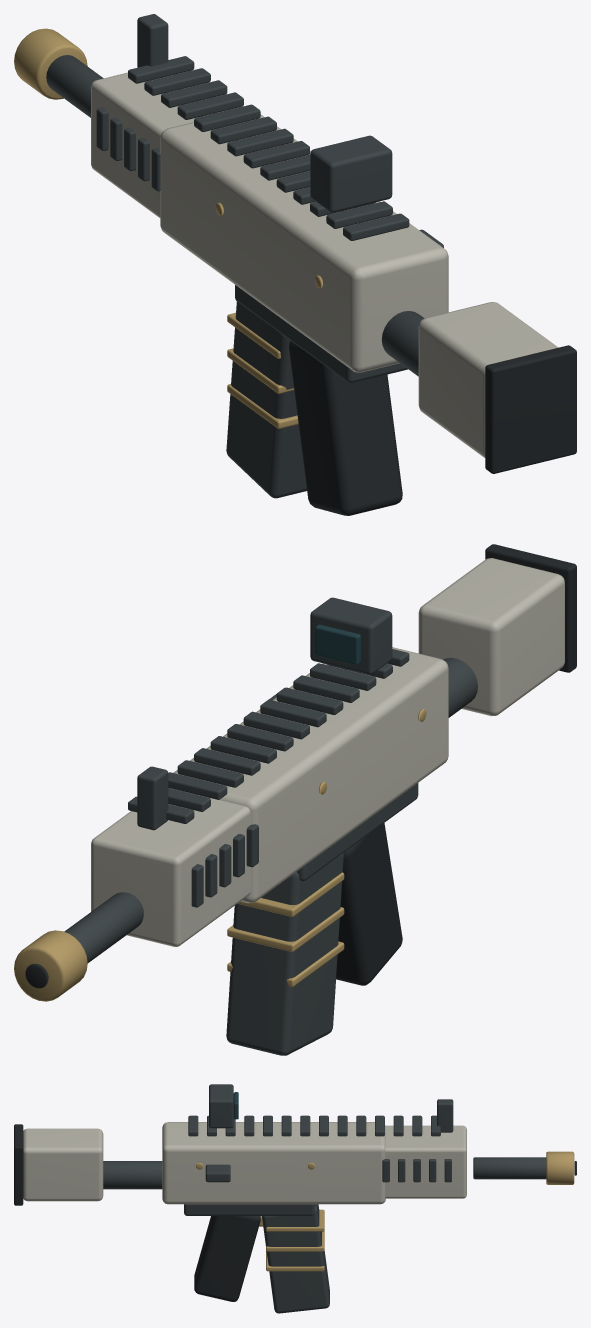
File: Weapon_burst.glb
The picture shows the model from 3 angles, top to bottom: view 1: azimuth 30°, elevation 25°; view 2: azimuth 150°, elevation 25°; view 3: azimuth 270°, elevation 25°; orthographic projection. The views are drawn at different scales.
Parts seen in each view (by area): view 1: Weapon_burst, ReloadMagazine; view 2: Weapon_burst, ReloadMagazine; view 3: Weapon_burst, ReloadMagazine, ChargingHandle.
Boxes of the visible parts, x1,y1,x2,y2 form: Weapon_burst: (14, 14, 576, 515); ReloadMagazine: (226, 301, 306, 498); Weapon_burst: (14, 544, 576, 1001); ReloadMagazine: (226, 853, 344, 1055); Weapon_burst: (14, 1084, 576, 1301); ReloadMagazine: (262, 1204, 329, 1313); ChargingHandle: (205, 1164, 230, 1182).
Bounding box in the file's own units: 0.1395 × 0.3799 × 0.9055.
